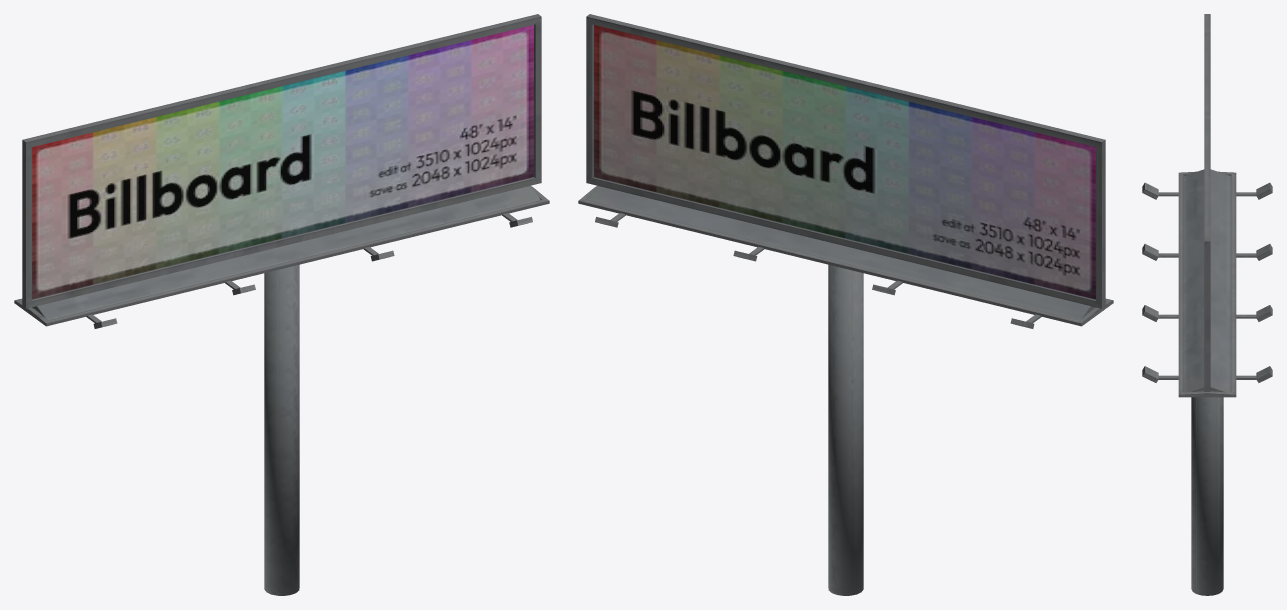
File: billboard.lod1.glb
The picture shows the model from 3 angles, left to right: view 1: azimuth 30°, elevation 25°; view 2: azimuth 150°, elevation 25°; view 3: azimuth 270°, elevation 25°; orthographic projection. The views are drawn at different scales.
Parts seen in each view (by area): view 1: Object_4, Object_5; view 2: Object_4, Object_5; view 3: Object_5.
Part boxes in pixels (<box>): Object_4: <box>32,25,533,299</box>; Object_5: <box>14,14,549,595</box>; Object_4: <box>594,25,1095,299</box>; Object_5: <box>578,14,1113,595</box>; Object_5: <box>1142,14,1272,595</box>.
Size of the model in its own units: 7.93 by 7.5 by 1.92.
Materials: 2 (2 with a texture image).
